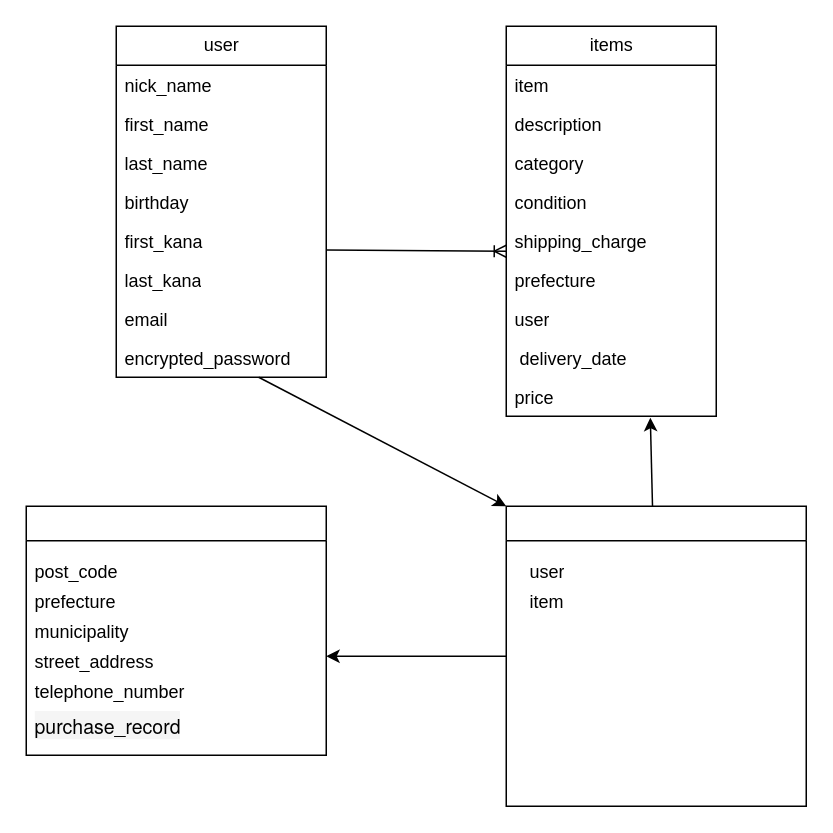
Image size: 833x833. Some labels were removed from this diagram. The shapes that lost their labels are listed below. From the top down, each one's box as (x1, y1, x2, y2) in pixels, then its label:
(25, 505, 326, 755): adresses
(505, 505, 806, 806): purchase_records
